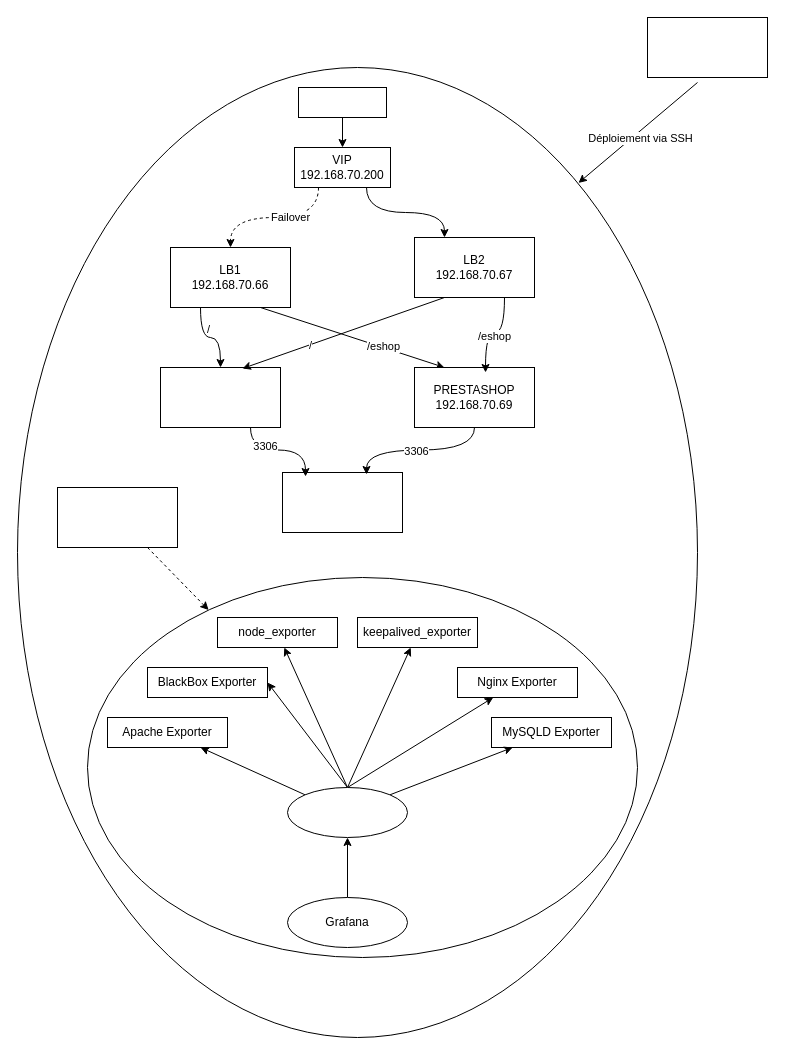
Some shapes in this 785 by 1055 pixel diagram are drawn without their labels. The shapes that lost their labels are listed below. From the top down, each one's centre as x and y in pixels, then its label:
At pixel 707 47: "Ansible".
At pixel 342 102: "Client".
At pixel 220 397: "WORDPRESS 192.168.70.68".
At pixel 117 517: "Monitoring 192.168.70.71".
At pixel 342 502: "MySQL 192.168.70.70".
At pixel 347 812: "Prometheus".
